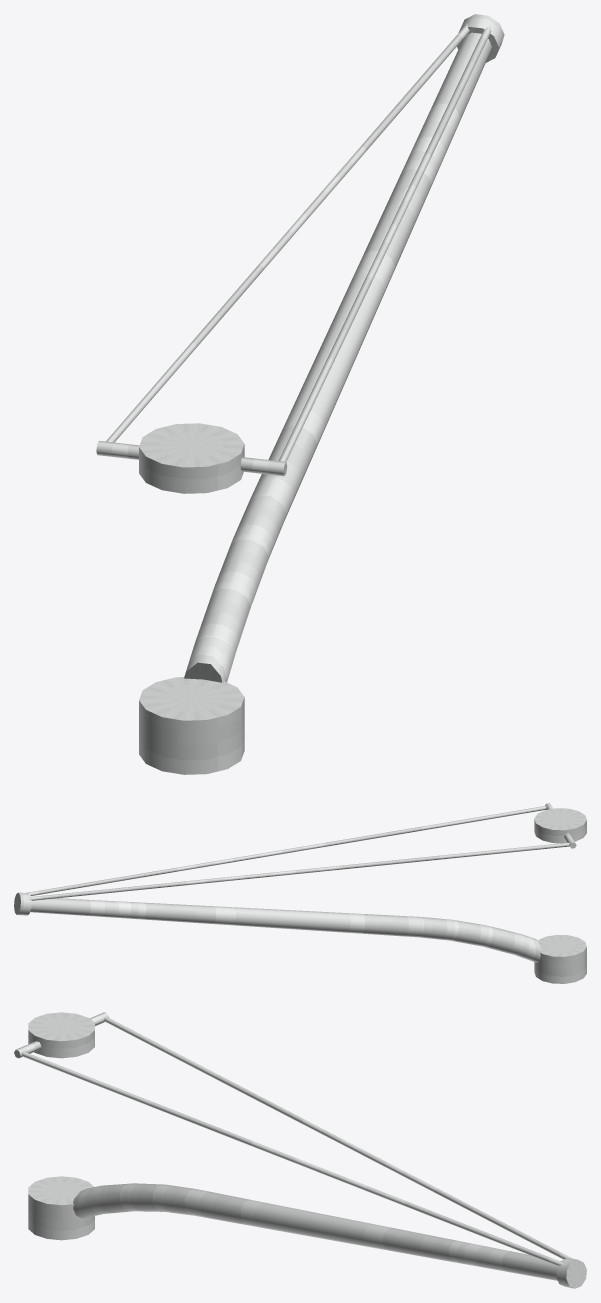
Rendered from nycsignalarm_diagonal6_inv.obj.
The picture shows the model from 3 angles, top to bottom: view 1: azimuth 30°, elevation 25°; view 2: azimuth 150°, elevation 25°; view 3: azimuth 270°, elevation 25°; orthographic projection. The views are drawn at different scales.
Visible parts, largest first — view 1: nycsignalarm_diagonal6_inv; view 2: nycsignalarm_diagonal6_inv; view 3: nycsignalarm_diagonal6_inv.
Part boxes in pixels (left/top/right/bottom): nycsignalarm_diagonal6_inv: left=96, top=14, right=504, bottom=774; nycsignalarm_diagonal6_inv: left=14, top=803, right=586, bottom=983; nycsignalarm_diagonal6_inv: left=14, top=1012, right=586, bottom=1288.
Bounding box in the file's own units: 1 × 0.3833 × 1.
